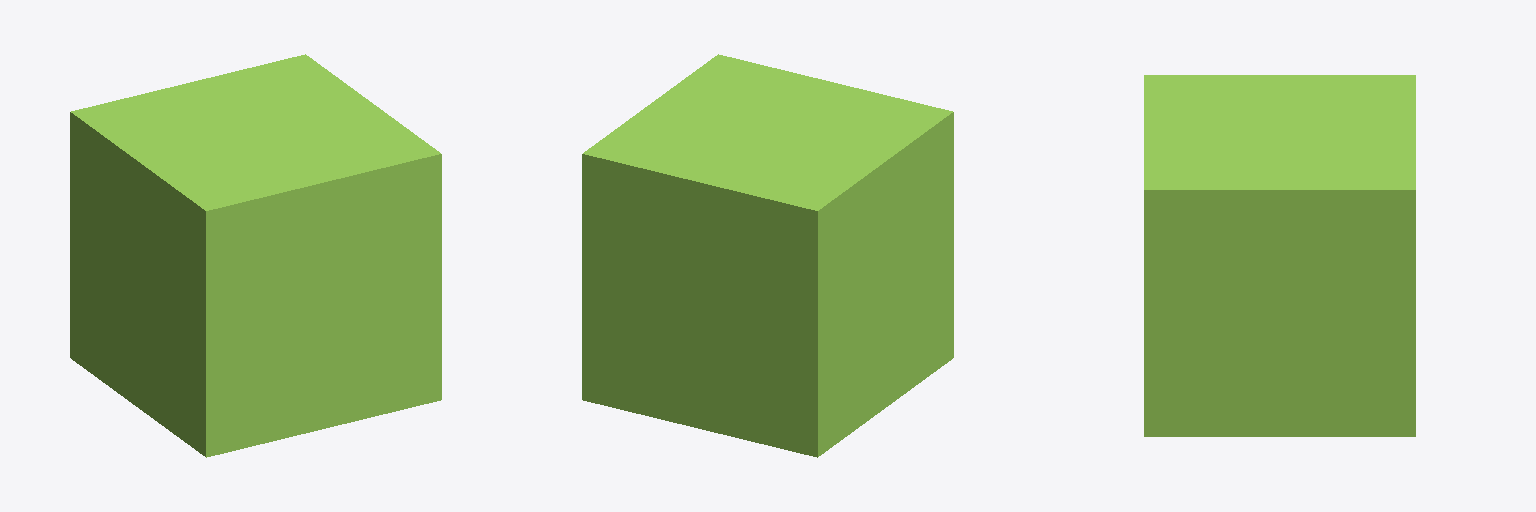
The picture shows the model from 3 angles: view 1: azimuth 30°, elevation 25°; view 2: azimuth 150°, elevation 25°; view 3: azimuth 270°, elevation 25°; orthographic projection.
Parts seen in each view (by area): view 1: object 1; view 2: object 1; view 3: object 1.
Boxes of the visible parts, box(x1,y1,x2,y2) form: object 1: box(70, 54, 441, 457); object 1: box(582, 54, 953, 457); object 1: box(1144, 75, 1415, 436).
Bounding box in the file's own units: 4 × 4 × 4.
Materials: 1 (1 with a texture image).